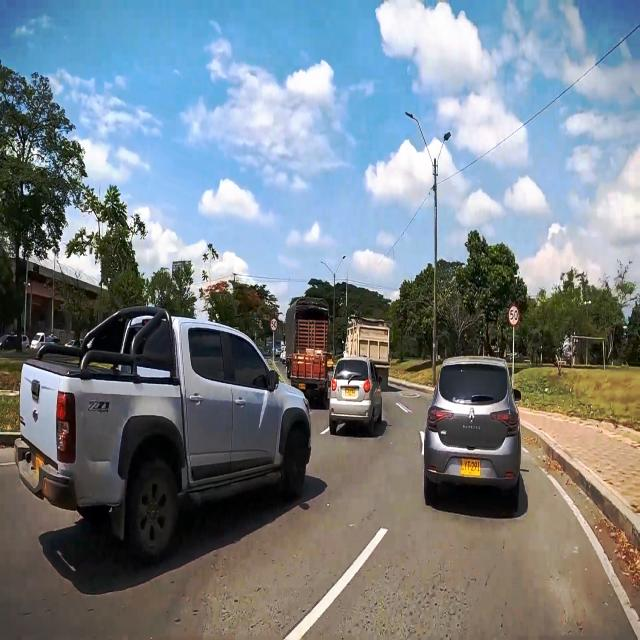license_plate: (460, 456, 481, 476)
